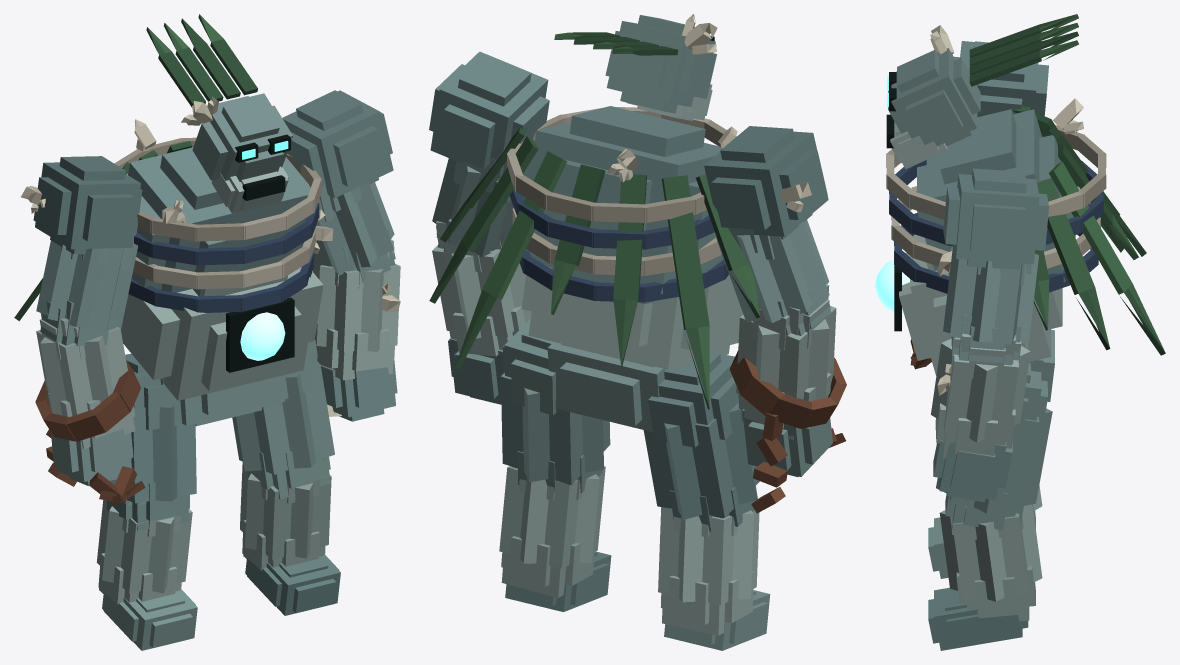
3 renders of one model, left to right at view 1: azimuth 30°, elevation 25°; view 2: azimuth 150°, elevation 25°; view 3: azimuth 270°, elevation 25°, orthographic. The views are drawn at different scales.
Visible parts, largest first — view 1: DrownedThrall; view 2: DrownedThrall; view 3: DrownedThrall.
Boxes of the visible parts, x1,y1,x2,y2 form: DrownedThrall: [14, 14, 400, 650]; DrownedThrall: [429, 14, 846, 650]; DrownedThrall: [875, 14, 1165, 650].
Bounding box in the file's own units: 0.9203 × 1.38 × 0.6318.
